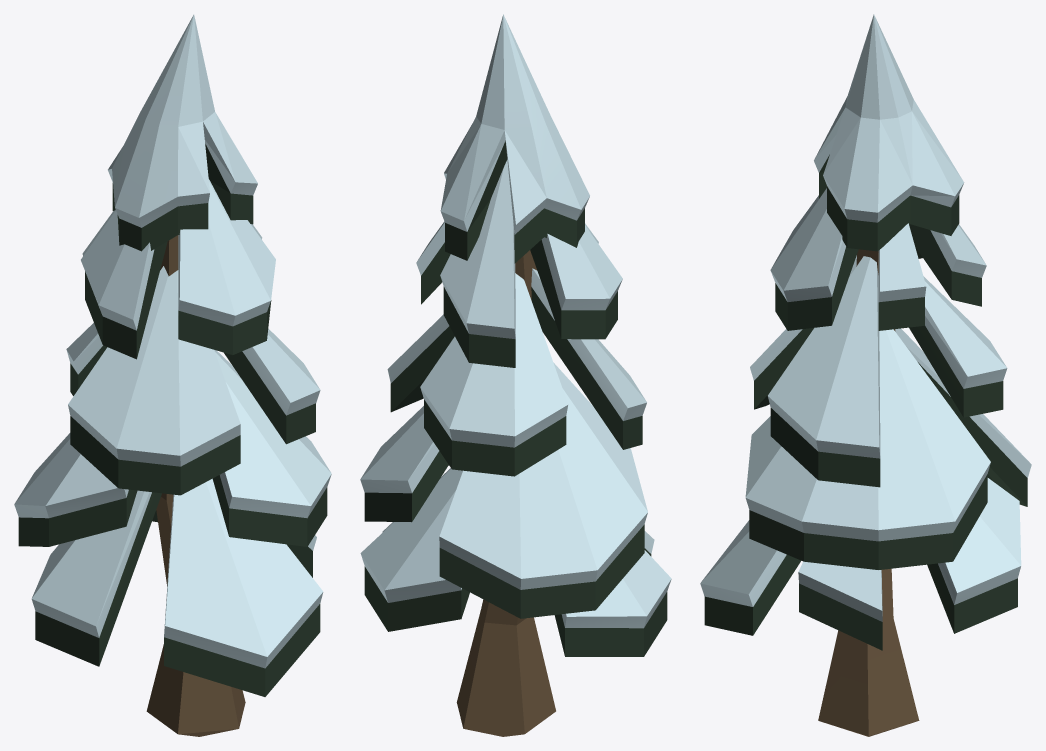
Rendered from Pino02.glb.
The picture shows the model from 3 angles, left to right: view 1: azimuth 30°, elevation 25°; view 2: azimuth 150°, elevation 25°; view 3: azimuth 270°, elevation 25°; orthographic projection.
Visible parts, largest first — view 1: SM_Env_Tree_Pine_02_Snow; view 2: SM_Env_Tree_Pine_02_Snow; view 3: SM_Env_Tree_Pine_02_Snow.
Boxes of the visible parts, box(x1,y1,x2,y2) form: SM_Env_Tree_Pine_02_Snow: box(14, 14, 331, 736); SM_Env_Tree_Pine_02_Snow: box(360, 14, 671, 736); SM_Env_Tree_Pine_02_Snow: box(700, 14, 1031, 736).
Bounding box in the file's own units: 1.43 × 3.62 × 1.51.
1 material, 1 textured.
